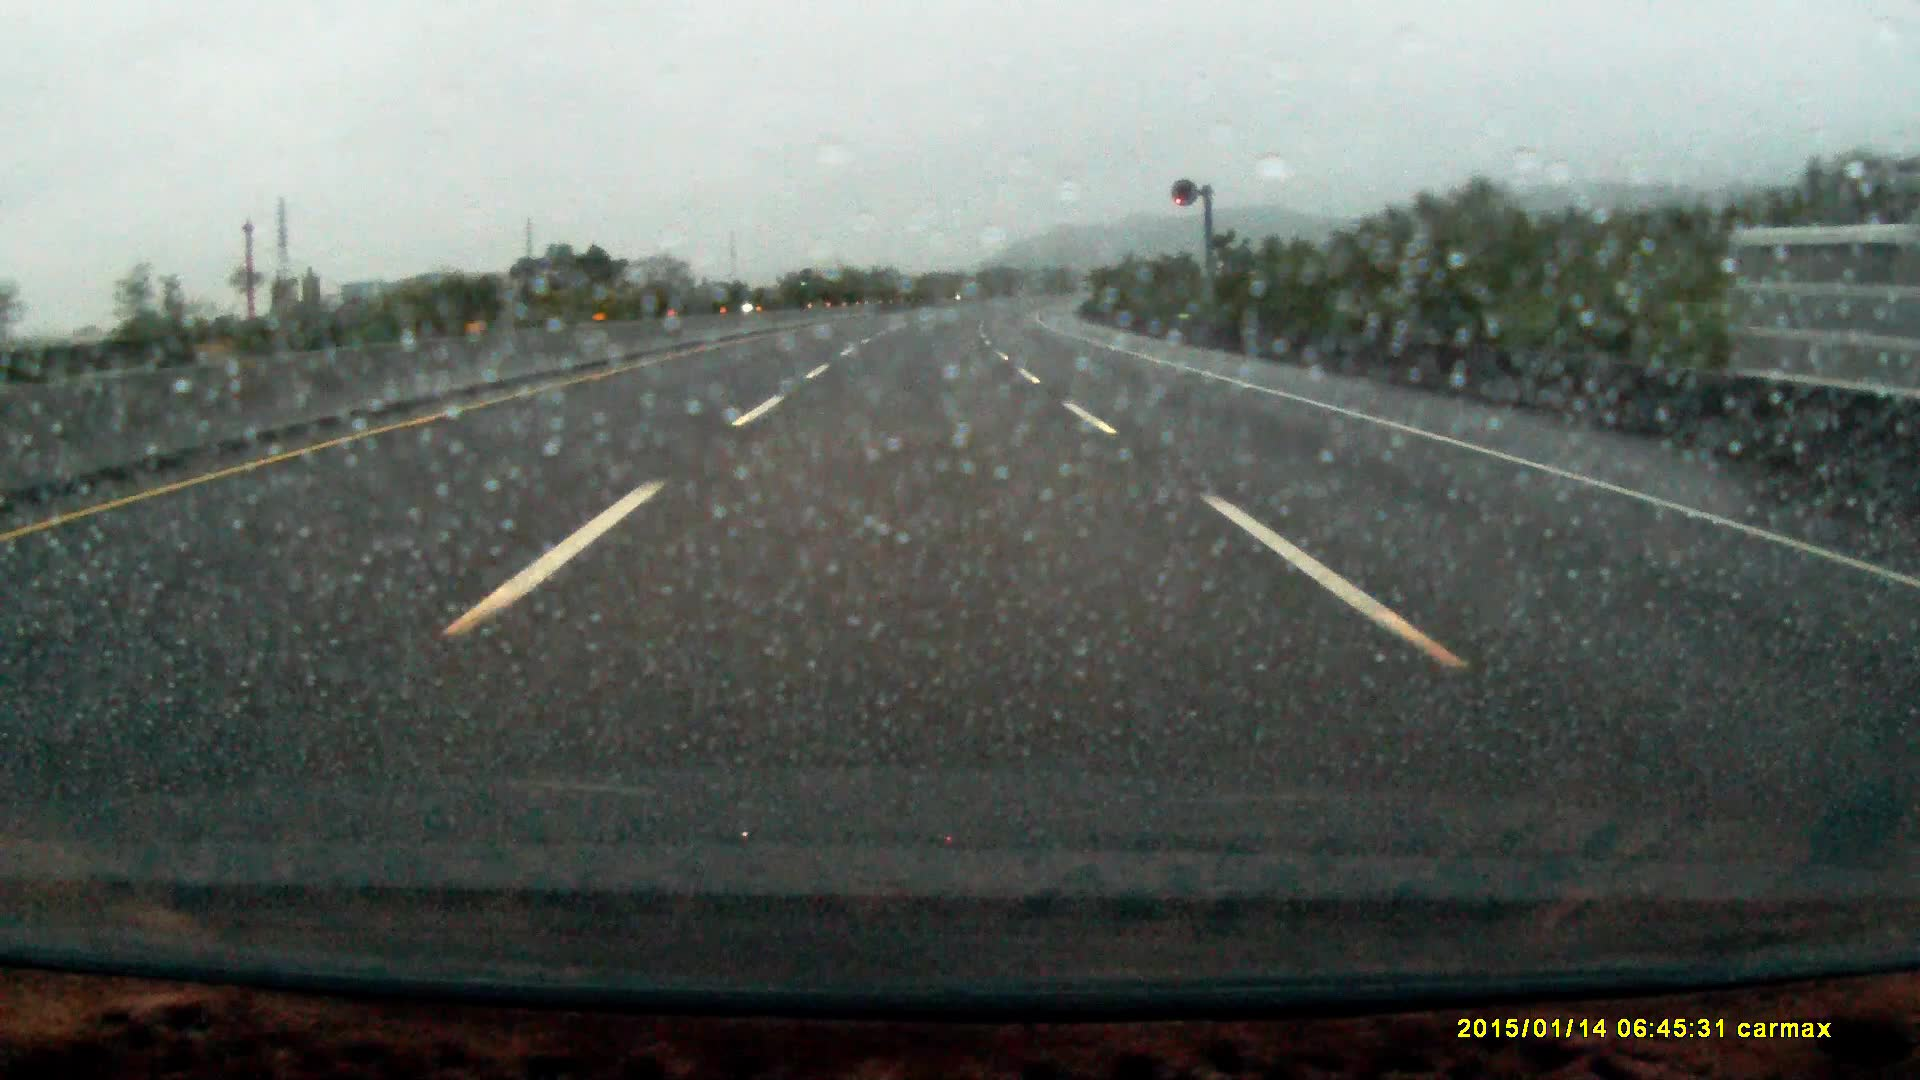vehicle: (796, 266, 837, 306)
